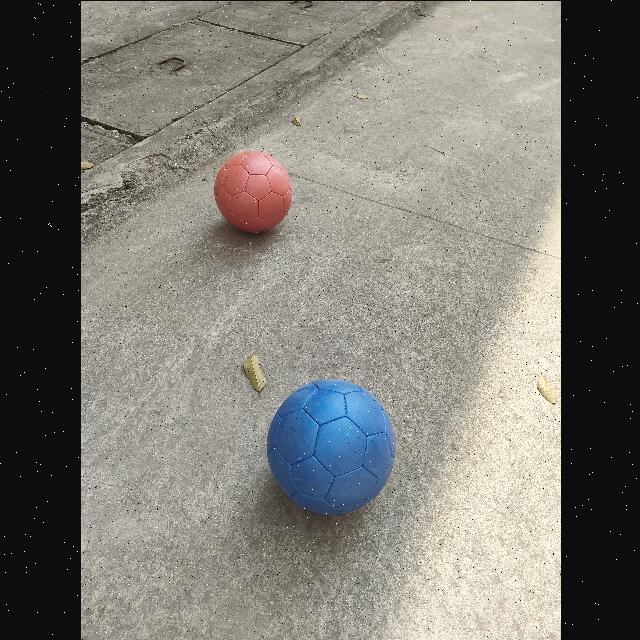B: (265, 379, 395, 517)
R: (213, 150, 293, 235)
